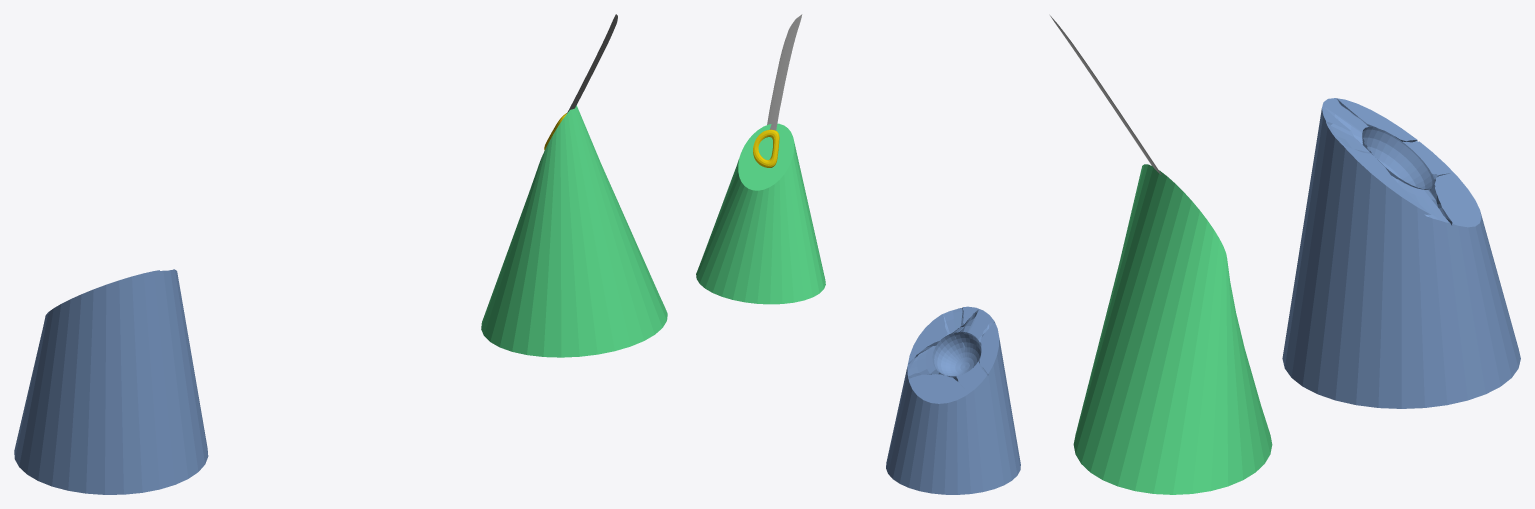
Rendered from pedestal.fbx.
3 views of the same model, side by side, from view 1: azimuth 30°, elevation 25°; view 2: azimuth 150°, elevation 25°; view 3: azimuth 270°, elevation 25° (orthographic). The views are drawn at different scales.
Visible parts, largest first — view 1: Cylinder.002, Cylinder; view 2: Cylinder.002, Cylinder, Espada; view 3: Cylinder.002, Cylinder, Espada.
Part boxes in pixels (box(x1,y1,x2,y2)): Cylinder.002: box(14, 269, 208, 494); Cylinder: box(481, 105, 667, 357); Cylinder.002: box(886, 306, 1020, 494); Cylinder: box(696, 123, 825, 304); Espada: box(753, 14, 802, 167); Cylinder.002: box(1282, 98, 1520, 408); Cylinder: box(1073, 164, 1272, 494); Espada: box(1050, 15, 1161, 175).
Bounding box in the file's own units: 384 × 311 × 237.
